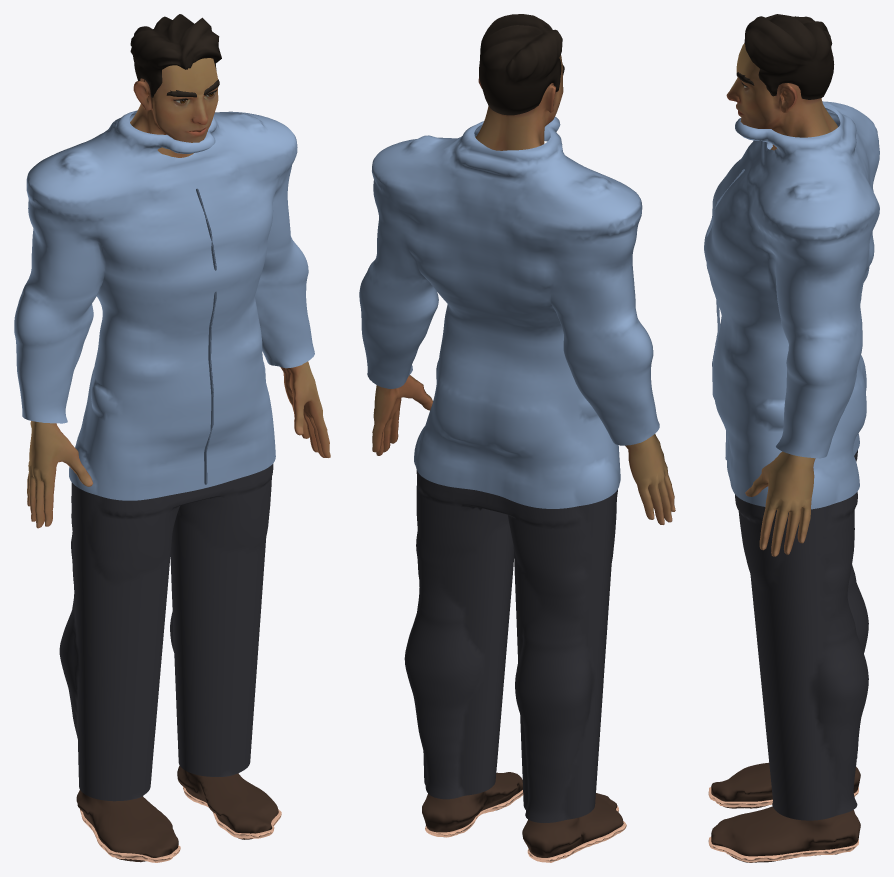
The model's file is office.glb.
3 renders of one model, left to right at view 1: azimuth 30°, elevation 25°; view 2: azimuth 150°, elevation 25°; view 3: azimuth 270°, elevation 25°, orthographic.
Visible parts, largest first — view 1: shirt, trousers, body, shoes, hair_short, shirt-2, shoes-2; view 2: shirt, trousers, body, hair_short, shoes; view 3: shirt, trousers, body, shoes, hair_short, shoes-1, shirt-2, shoes-2.
Part boxes in pixels (box(x1,y1,x2,y2)): shirt: box(14, 110, 314, 500); trousers: box(59, 463, 273, 801); body: box(27, 58, 330, 528); shoes: box(76, 765, 278, 862); hair_short: box(130, 14, 221, 97); shirt-2: box(196, 188, 216, 484); shoes-2: box(80, 809, 180, 862); shirt: box(359, 117, 659, 508); trousers: box(404, 470, 617, 822); body: box(372, 55, 675, 524); hair_short: box(479, 14, 562, 115); shoes: box(422, 772, 623, 857); shirt: box(704, 101, 879, 509); trousers: box(735, 450, 868, 820); body: box(726, 43, 837, 556); shoes: box(711, 762, 860, 862); hair_short: box(744, 14, 834, 99); shoes-1: box(708, 836, 858, 862); shirt-2: box(706, 169, 744, 460); shoes-2: box(708, 787, 858, 807).
Size of the model in its own units: 0.6793 by 1.81 by 0.3549.
Materials: 12 (4 with a texture image).
